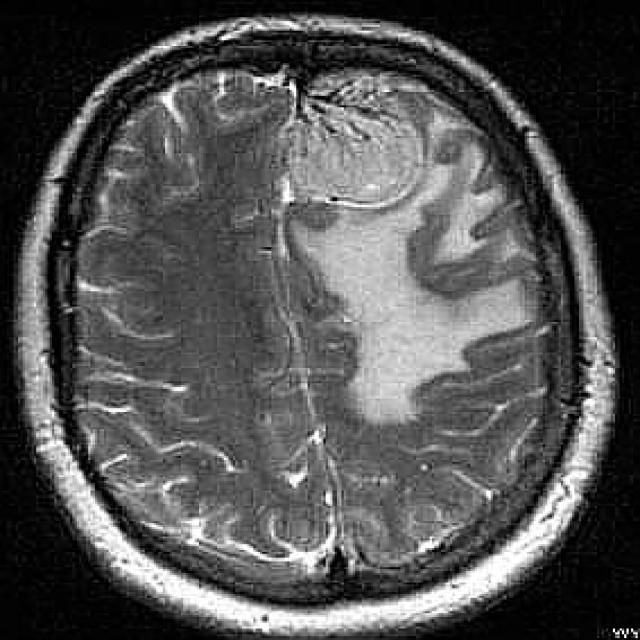Tumor-Cell: (274, 85, 465, 238)
